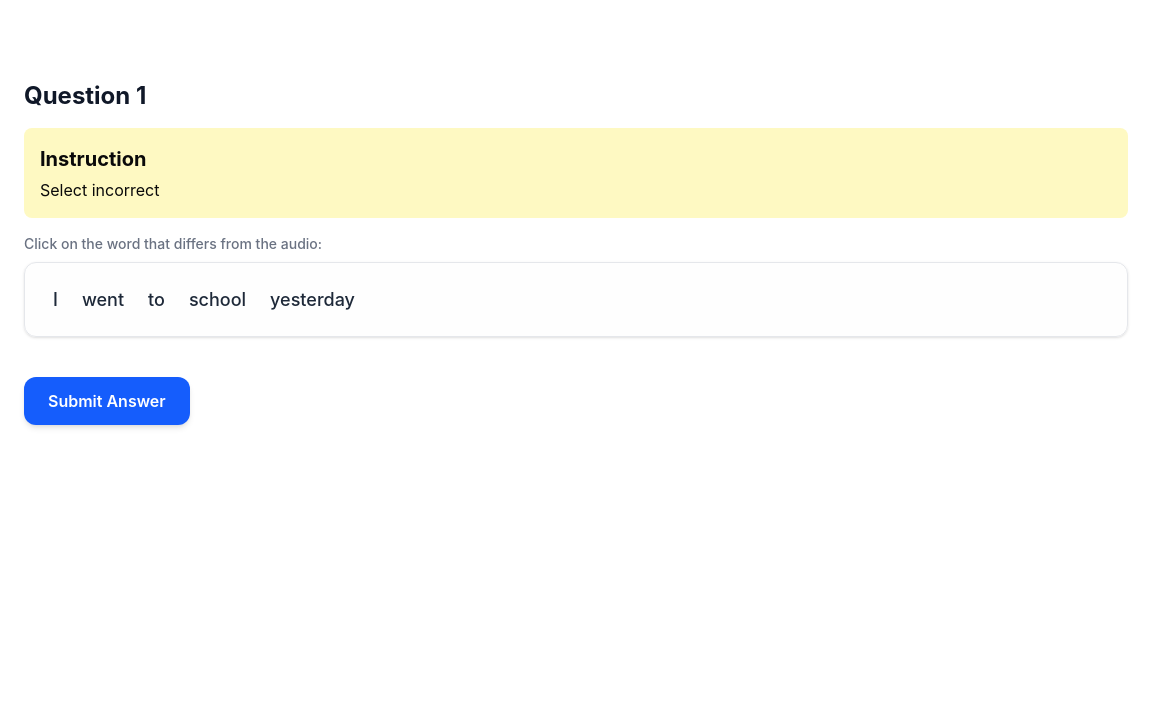
Test: QuestionPage - Reorder and Incorrect Word › interacts and submits Highlight Incorrect Word question
Check: the text "Select incorrect" is shown, box [40, 180, 160, 200]
Note: Click word "school"
Step 1. Click the text "school" → point(218, 300), box [189, 289, 246, 310]
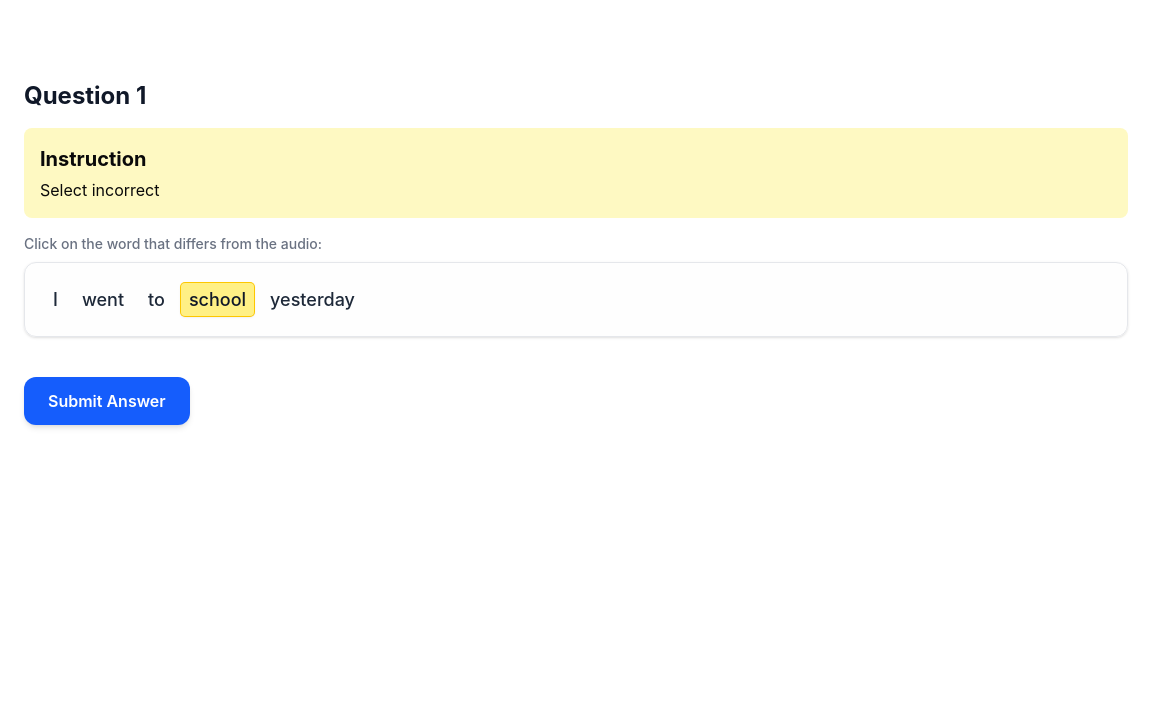
Step 2. Click the button "Submit Answer" → point(107, 401), box [24, 377, 190, 425]
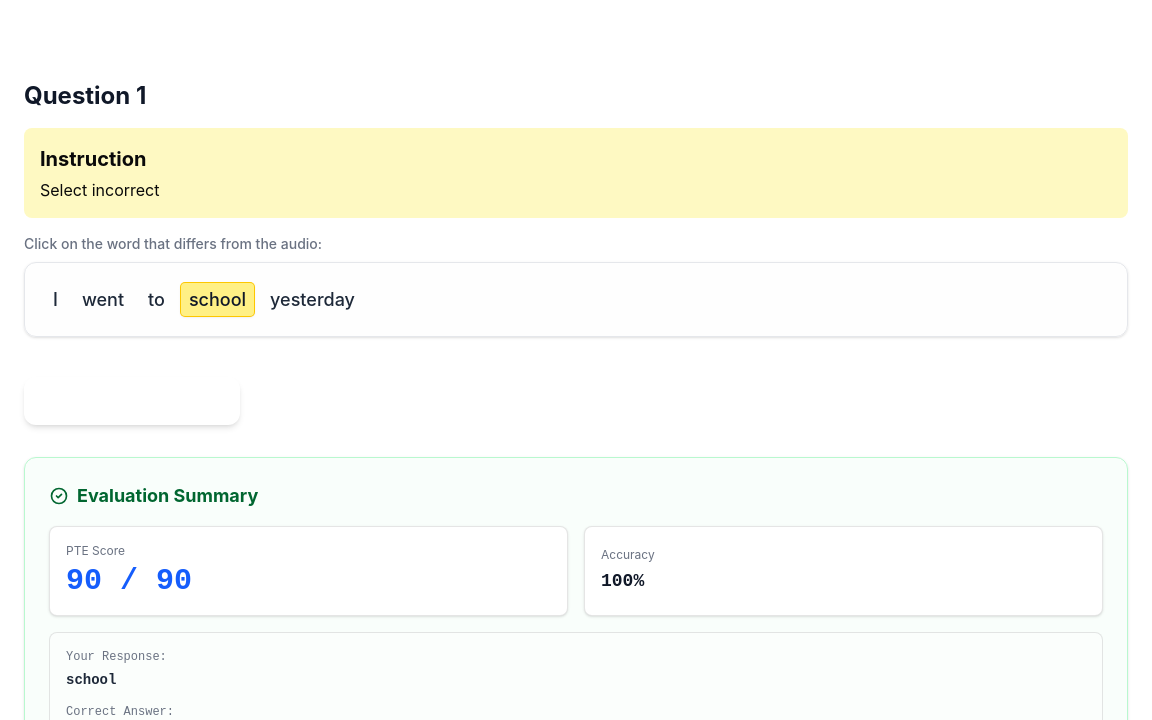
Check: the heading "Evaluation Summary" is shown, box [49, 485, 258, 506]
